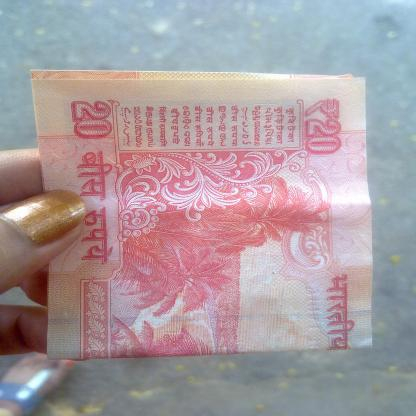Old20Back: (37, 70, 374, 355)
